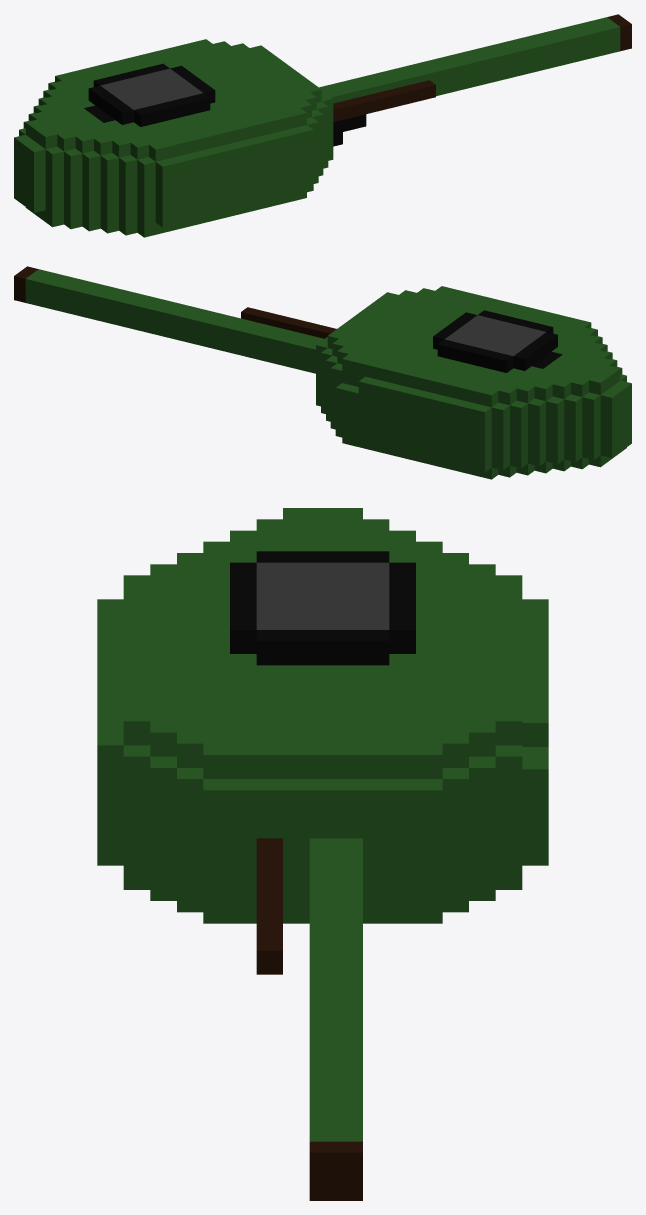
Rendered from TankStandartHead.obj.
3 renders of one model, top to bottom at view 1: azimuth 30°, elevation 25°; view 2: azimuth 150°, elevation 25°; view 3: azimuth 270°, elevation 25°, orthographic. The views are drawn at different scales.
Size of the model in its own units: 5.2 by 0.8 by 1.7.
Materials: 1 (1 with a texture image).
